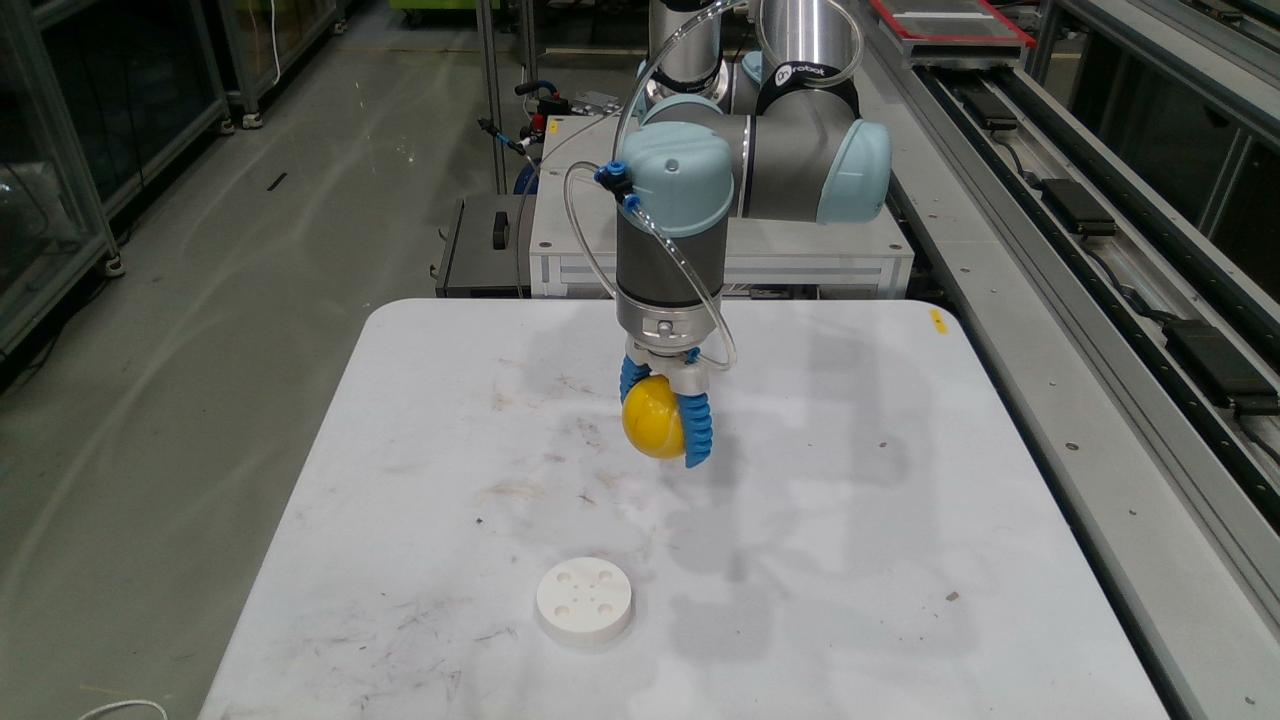UR5: (615, 0, 892, 396)
gripper_left: (620, 355, 650, 404)
gripper_right: (677, 393, 713, 468)
target: (536, 557, 634, 649), (621, 375, 684, 459)
